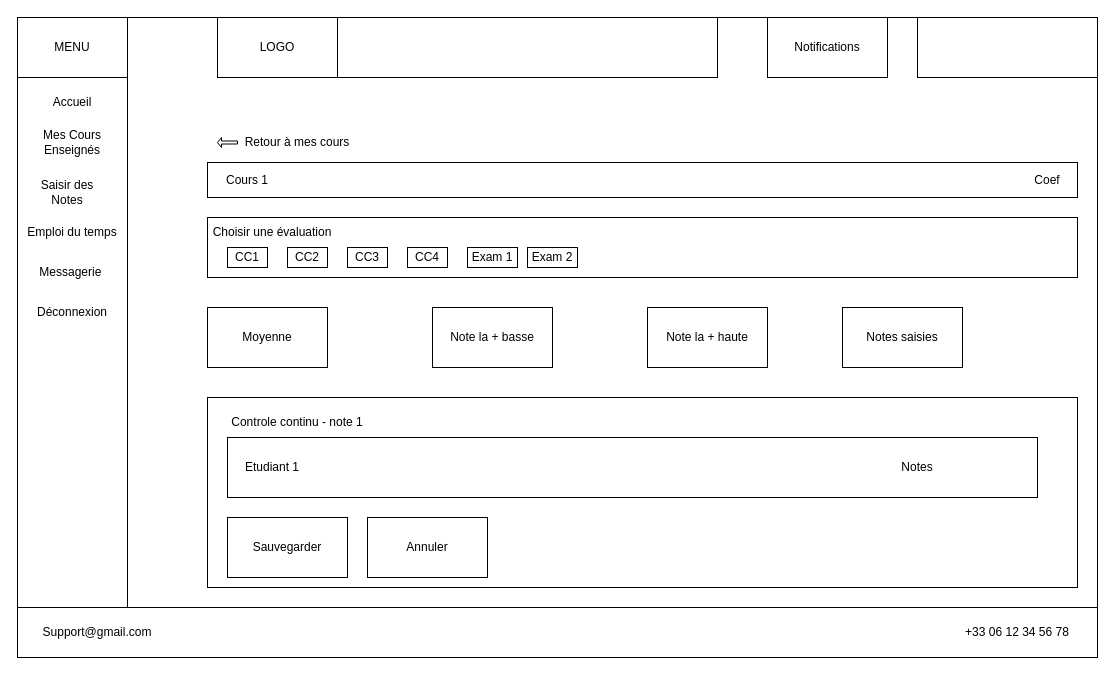
Some shapes in this 1115 by 675 pixel diagram are drawn without their labels. Each missing label, with the box of its shape:
Nom de l'utilisateur: (916, 16, 1098, 78)
Nom du site: (336, 16, 718, 78)
